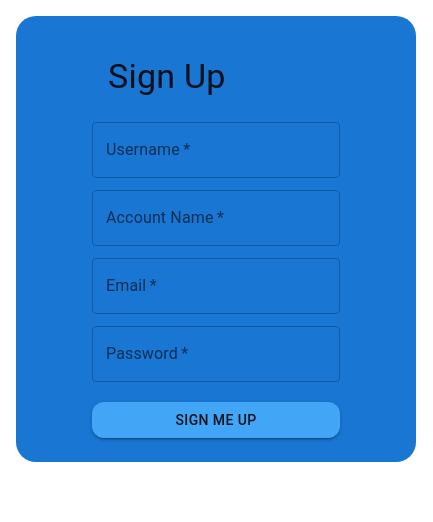
User Sign Up input test › User Input is correctly controlled
Type "pepe" into the field labelled "Username *" at {"x": 216, "y": 150}, box [92,122,340,178]
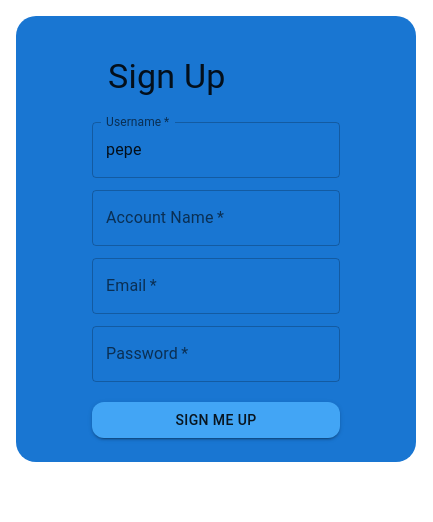
Type "pepe. " into the field labelled "Account Name *" at {"x": 216, "y": 218}, box [92,190,340,246]
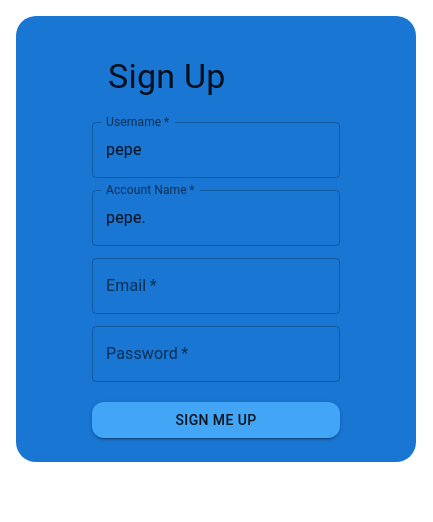
Type "pepe@mail.es" into the field labelled "Email *" at {"x": 216, "y": 286}, box [92,258,340,314]
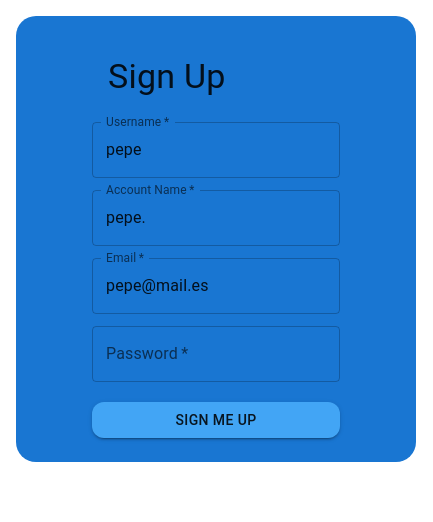
Type "12345678q" into the password field labelled "Password *" at {"x": 216, "y": 354}, box [92,326,340,382]
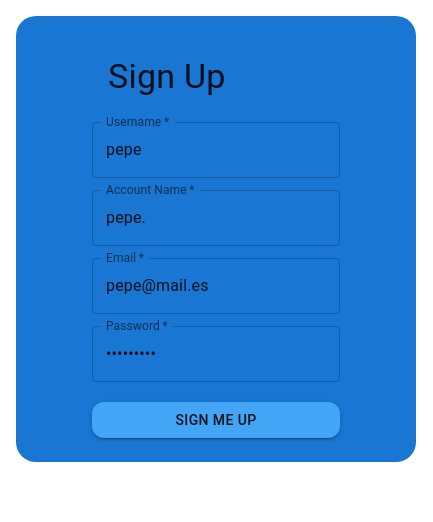
Click the button "Sign Me Up" at {"x": 216, "y": 420}, box [92,402,340,438]
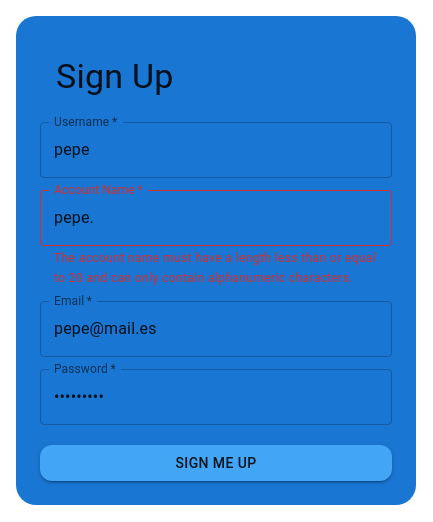
expect the text "The account name must have a length less than or equal to 20 and can only contain alphanumeric characters." is shown: met, box [54,251,376,285]
